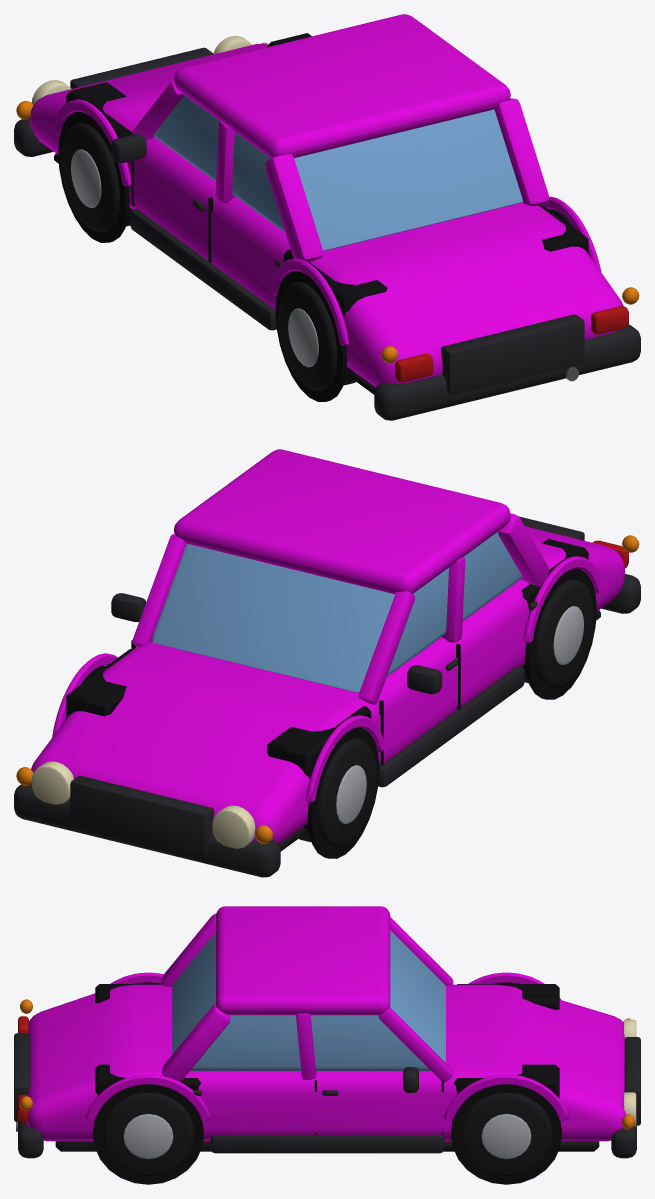
The model's file is SedovaClassic.fbx.
3 renders of one model, top to bottom at view 1: azimuth 30°, elevation 25°; view 2: azimuth 150°, elevation 25°; view 3: azimuth 270°, elevation 25°, orthographic. The views are drawn at different scales.
Visible parts, largest first — view 1: SedovaClassic; view 2: SedovaClassic; view 3: SedovaClassic.
Boxes of the visible parts, x1,y1,x2,y2 form: SedovaClassic: [14, 14, 640, 420]; SedovaClassic: [14, 449, 640, 877]; SedovaClassic: [14, 906, 640, 1184].
Size of the model in its own units: 2.34 by 1.52 by 4.73.
